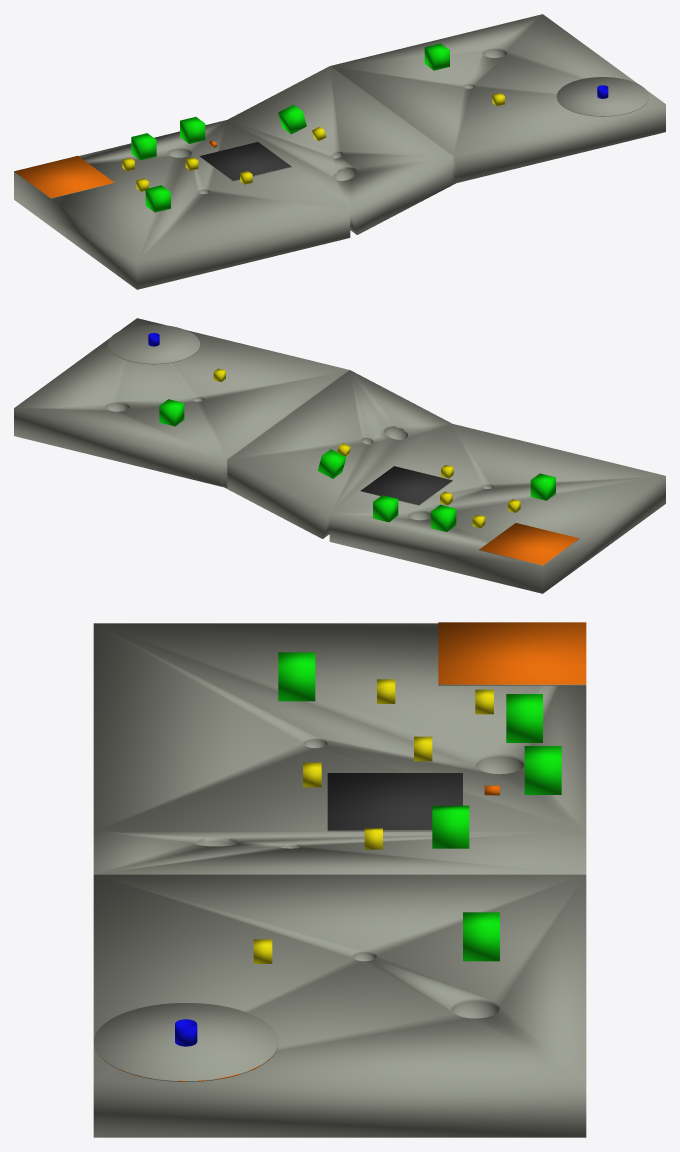
Rendered from color.dae.
3 views of the same model, one above another, from view 1: azimuth 30°, elevation 25°; view 2: azimuth 150°, elevation 25°; view 3: azimuth 270°, elevation 25° (orthographic). The views are drawn at different scales.
Visible parts, largest first — view 1: iroc_arena; view 2: iroc_arena; view 3: iroc_arena.
Boxes of the visible parts, x1,y1,x2,y2 form: iroc_arena: [14, 14, 665, 289]; iroc_arena: [14, 318, 665, 593]; iroc_arena: [93, 622, 586, 1137].
Size of the model in its own units: 9.92 by 4 by 1.31.
